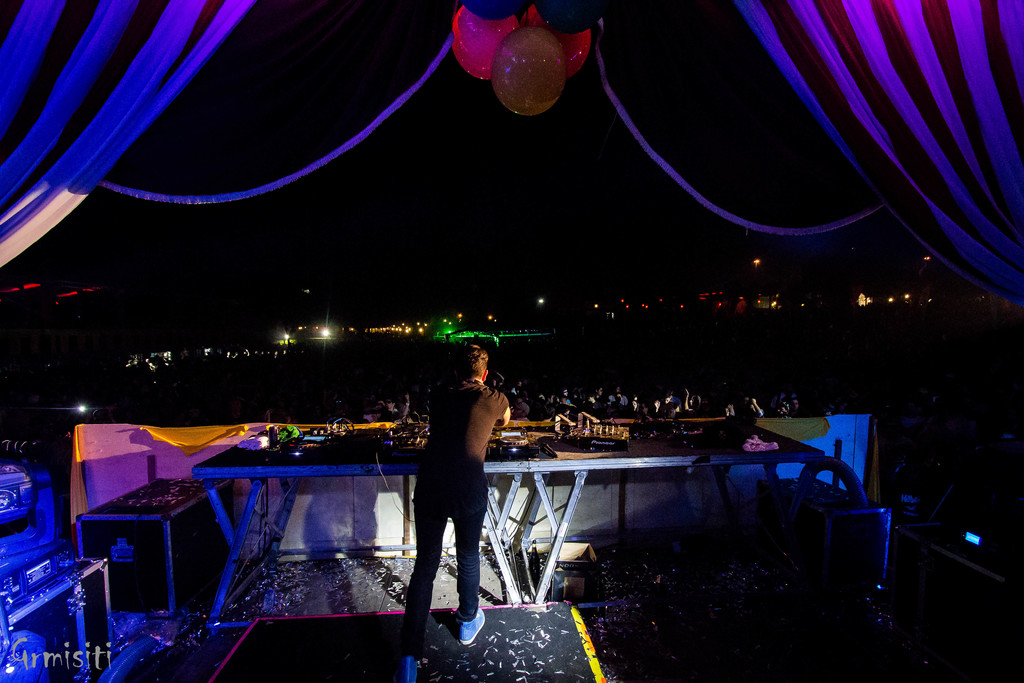Footwear: (461, 605, 483, 650)
